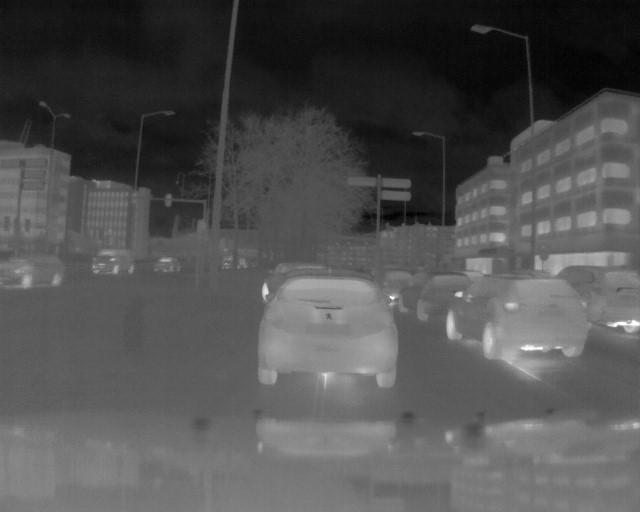car: (255, 271, 400, 390), (450, 275, 594, 362), (562, 260, 640, 333), (398, 267, 460, 320), (1, 252, 68, 288), (91, 245, 137, 279), (151, 252, 185, 272)
